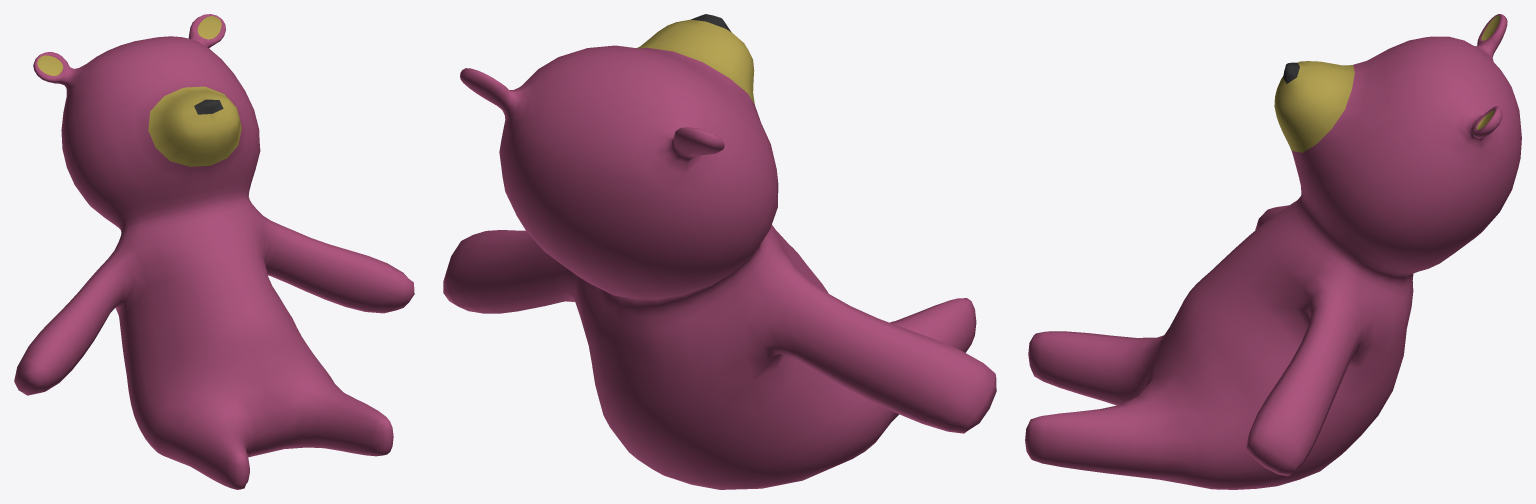
The model's file is [CEN]-Urso.fbx.
3 views of the same model, side by side, from view 1: azimuth 30°, elevation 25°; view 2: azimuth 150°, elevation 25°; view 3: azimuth 270°, elevation 25° (orthographic). The views are drawn at different scales.
Parts seen in each view (by area): view 1: Cube; view 2: Cube; view 3: Cube.
Boxes of the visible parts, x1,y1,x2,y2 form: Cube: (14, 14, 414, 489); Cube: (443, 14, 996, 489); Cube: (1025, 14, 1521, 489).
Bounding box in the file's own units: 257 × 215 × 237.
